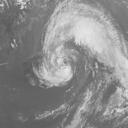cyclone: (31, 24, 99, 88)
